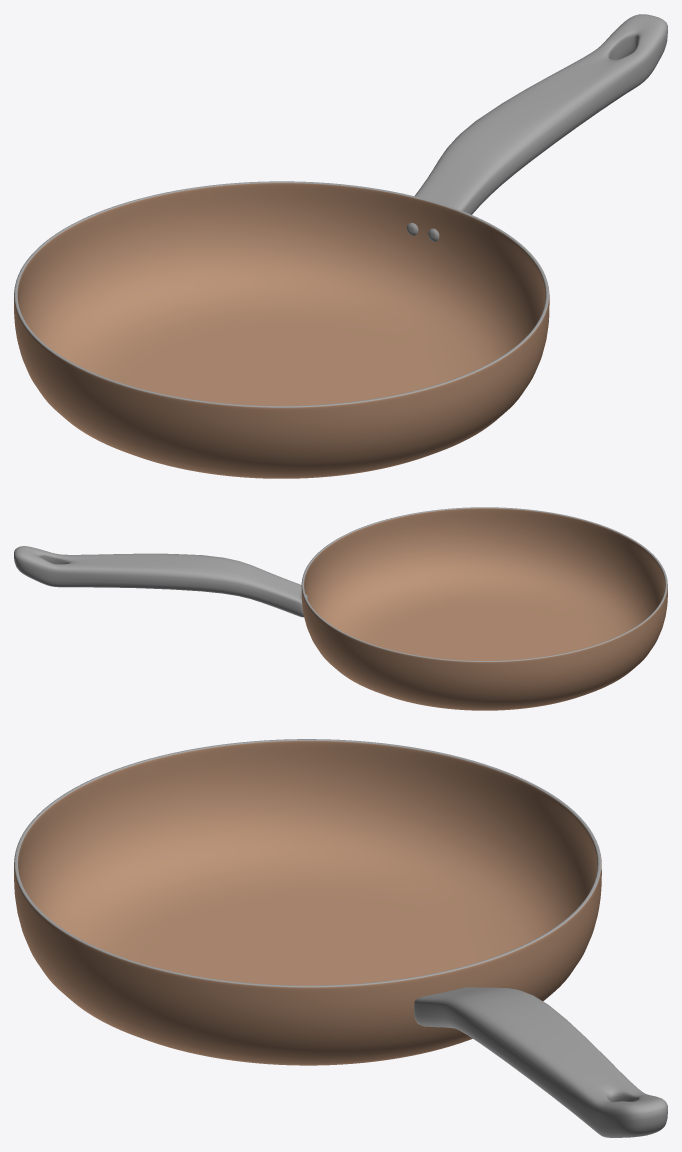
File: uploads_files_3092002_Pan.fbx
The picture shows the model from 3 angles, top to bottom: view 1: azimuth 30°, elevation 25°; view 2: azimuth 150°, elevation 25°; view 3: azimuth 270°, elevation 25°; orthographic projection. The views are drawn at different scales.
Parts seen in each view (by area): view 1: Pan main, Pan main.001; view 2: Pan main, Pan main.001; view 3: Pan main, Pan main.001.
Boxes of the visible parts, x1,y1,x2,y2 form: Pan main: (14, 181, 549, 478); Pan main.001: (414, 14, 667, 214); Pan main: (301, 507, 667, 710); Pan main.001: (14, 546, 303, 617); Pan main: (14, 739, 601, 1065); Pan main.001: (414, 987, 667, 1137).
Size of the model in its own units: 333 by 56.06 by 224.
